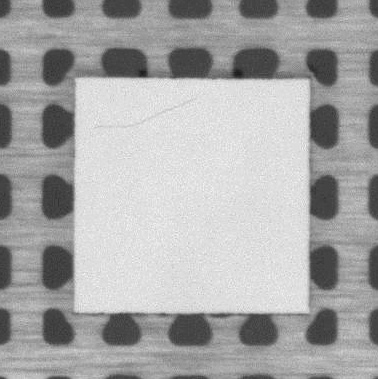DIE_CRACK: (90, 97, 199, 130)
